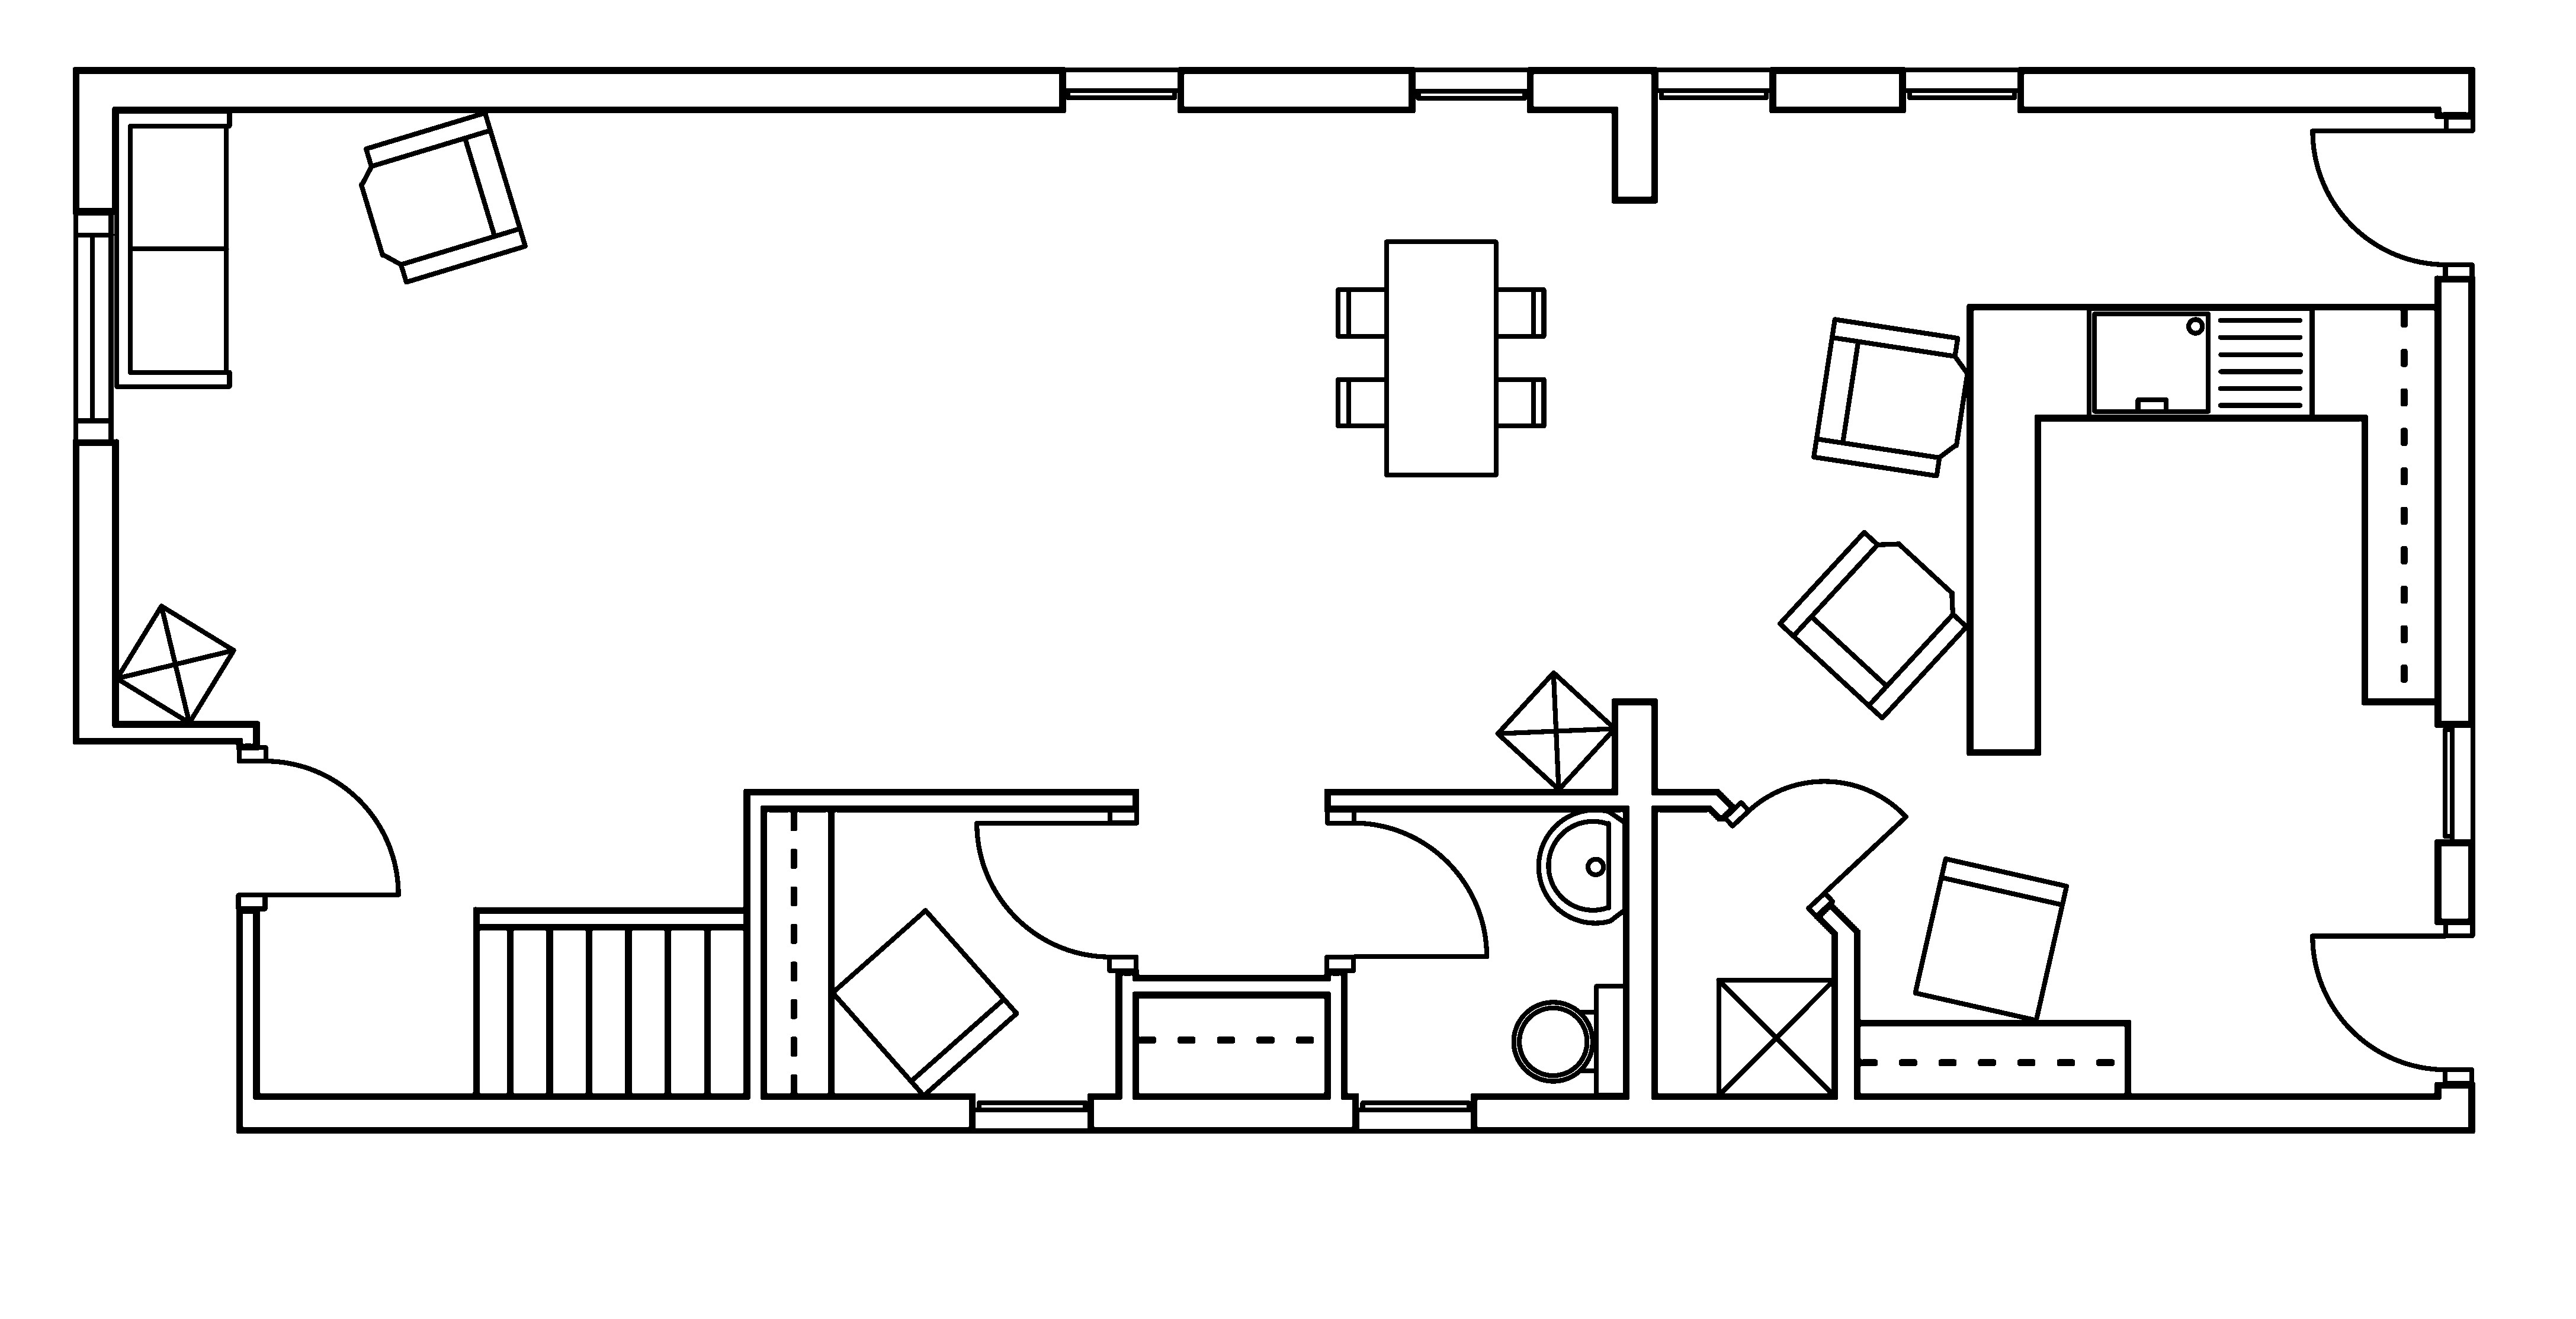armchair: (1776, 528, 1969, 720), (358, 109, 528, 284), (1811, 316, 1971, 478)
coffee_table: (113, 602, 237, 725), (1493, 670, 1618, 792), (1715, 976, 1836, 1099)
dining_table: (1335, 239, 1547, 478)
large_sink: (1512, 983, 1628, 1097)
large_sofa: (113, 108, 232, 389)
sink: (2085, 305, 2314, 421)
small_sink: (1535, 808, 1628, 925)
small_sofa: (829, 907, 1019, 1099), (1912, 855, 2068, 1023)
